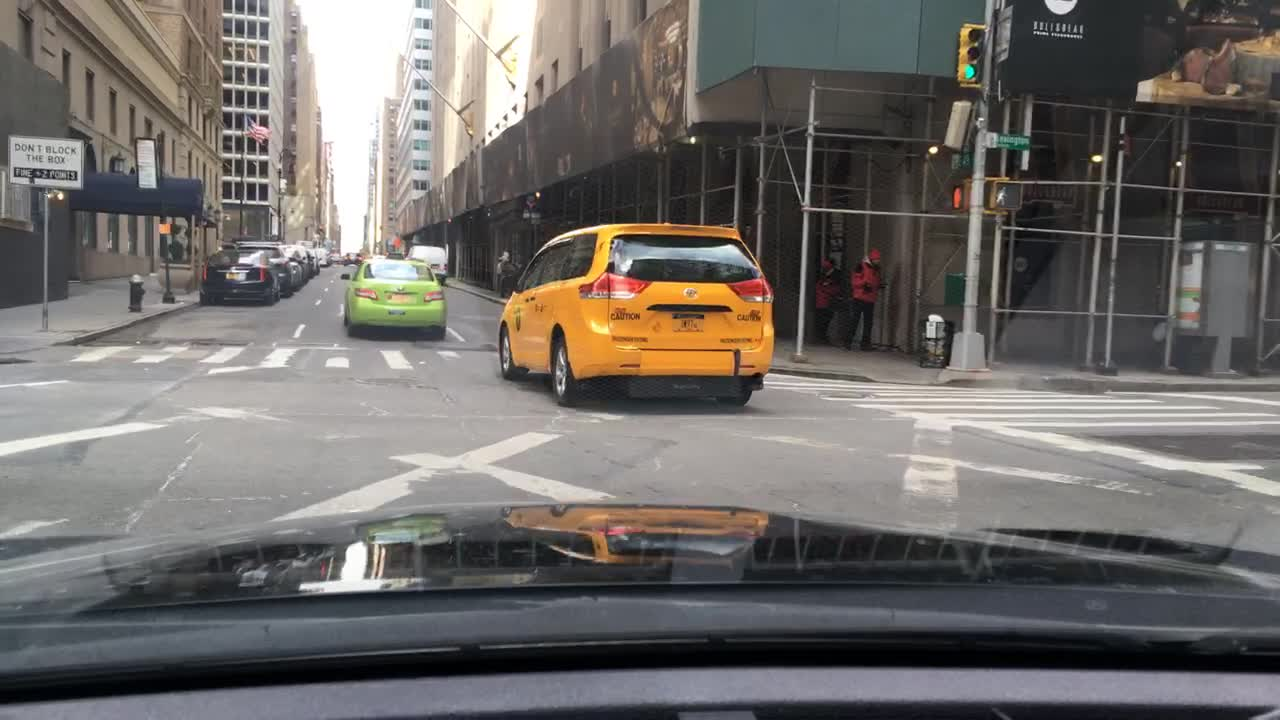car: (497, 223, 774, 406), (341, 259, 446, 342), (199, 242, 283, 305), (232, 239, 296, 297), (407, 244, 449, 283), (279, 243, 309, 287), (299, 238, 319, 278), (314, 239, 330, 267), (342, 250, 363, 267), (386, 250, 405, 258), (330, 246, 338, 264)
person: (843, 248, 882, 351), (812, 257, 840, 347), (494, 250, 518, 300)
traffic light: (955, 21, 985, 83), (981, 177, 1025, 213), (948, 181, 968, 214)
traffic sign: (8, 137, 84, 190), (983, 131, 1034, 150)
